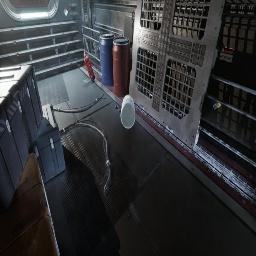0: (120, 94, 136, 129)
FireExtinguisher ]: (84, 49, 95, 82)
